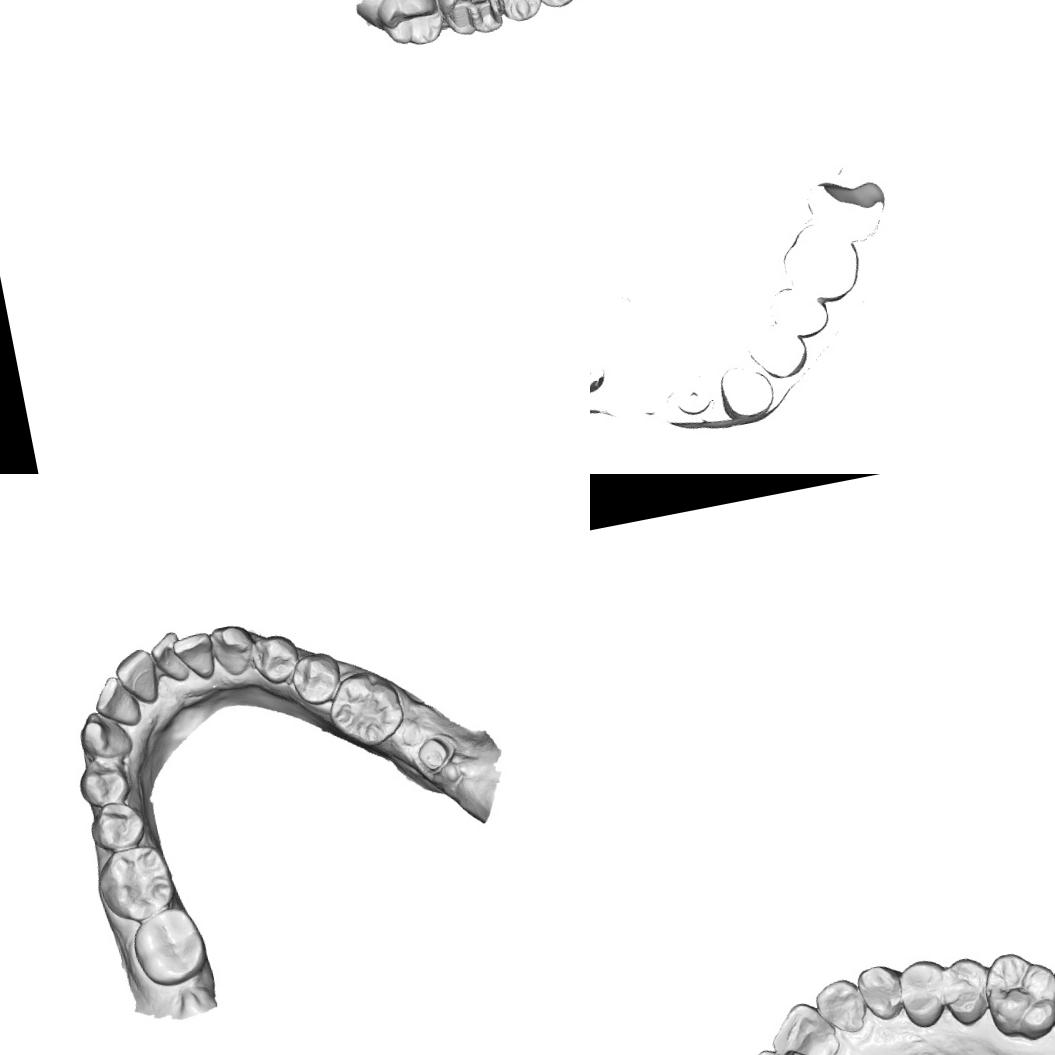abutment: (412, 730, 458, 778)
canine: (852, 957, 912, 1027), (70, 703, 136, 766), (204, 619, 260, 681)
incisor: (761, 994, 844, 1055), (808, 972, 873, 1040), (107, 644, 164, 712), (88, 669, 146, 733), (168, 627, 224, 685), (144, 627, 192, 688), (739, 1038, 819, 1055)
inlay: (439, 0, 500, 39)
molar: (88, 838, 182, 930), (320, 662, 410, 754), (125, 900, 214, 993), (977, 942, 1055, 1048), (369, 0, 448, 54)
premolar: (936, 950, 999, 1032), (891, 952, 954, 1034), (81, 793, 153, 858), (284, 646, 347, 710), (72, 752, 135, 812), (246, 628, 305, 690), (485, 0, 546, 28)
